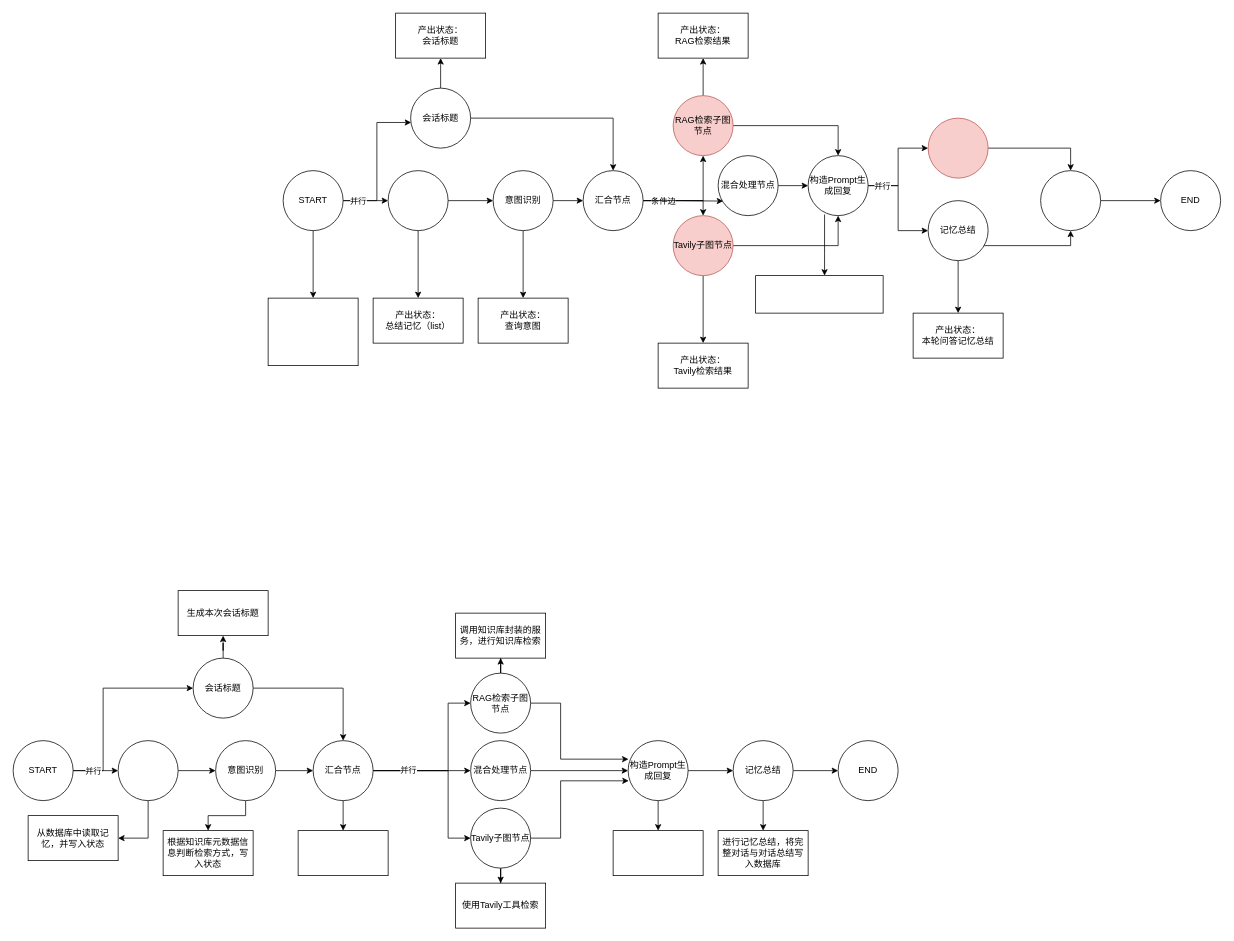
This 1234x941 diagram has some shape labels left out. The centre of each missing label's shape, as x and y in pixels:
"产出状态： 本会话最近n轮记忆（覆盖） 原始输出" belongs at point 819,294.
"产出状态： 用户id 会话id 本会话最近n轮记忆 原始查询 会话标题" belongs at point 312,331.
"后续输出功能子图" belongs at point 957,147.
"汇合结束节点" belongs at point 1070,200.
"生成最终回复" belongs at point 657,853.
"等待前序处理完成，统一进行后续流程" belongs at point 342,853.
"记忆导入" belongs at point 147,770.
"长期记忆导入" belongs at point 417,200.
